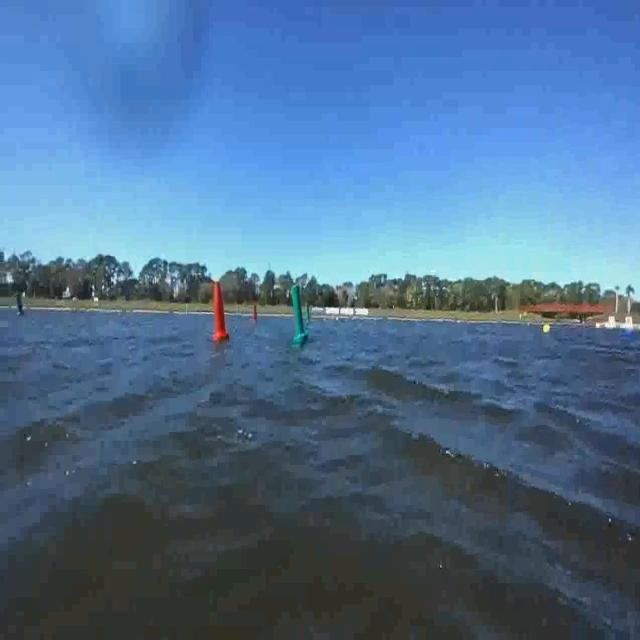green-column-buoy: (290, 286, 308, 343), (305, 304, 312, 338)
red-column-buoy: (212, 282, 229, 342), (251, 297, 260, 329)
yellow-buoy: (542, 321, 550, 335)
